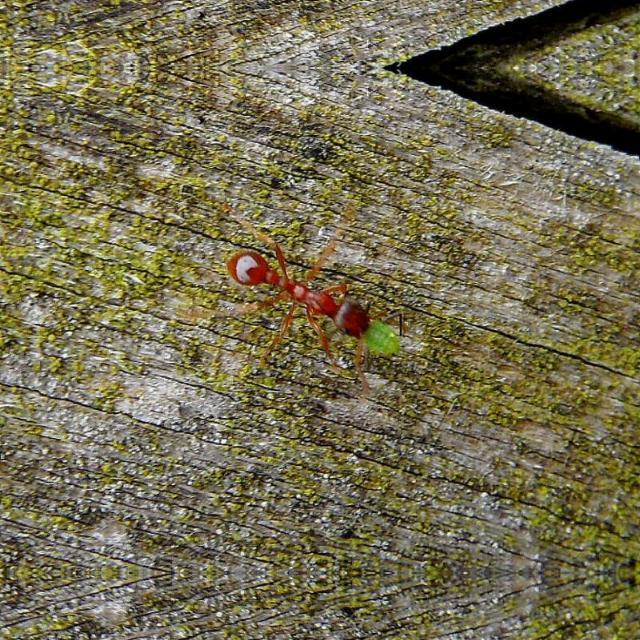Myrmica: (205, 224, 402, 376)
